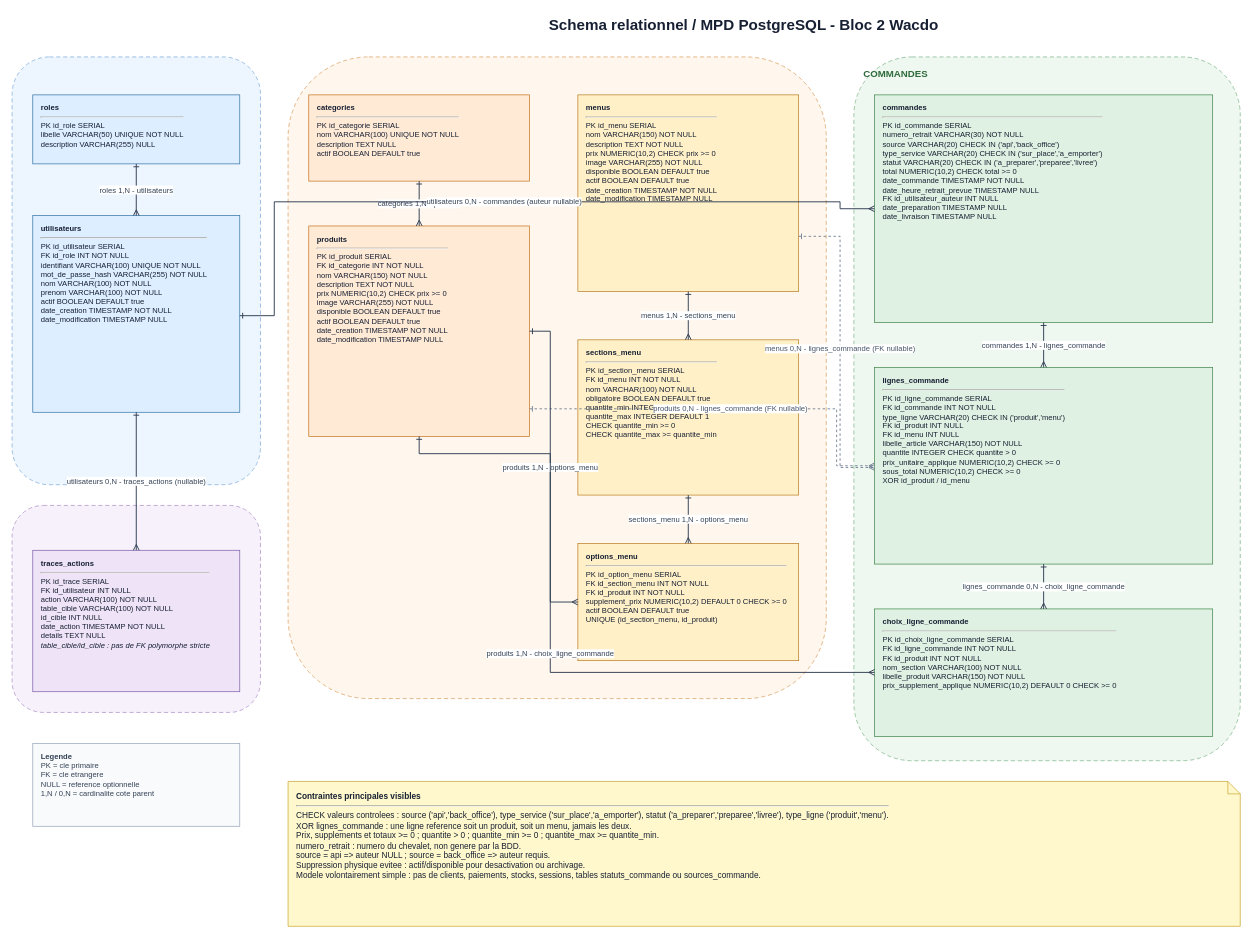
This 1252x938 diagram has some shape labels left out. The box of each missing label's shape, as (x1, y1, x2, y2) in pixels:
ACCES: (11, 56, 260, 485)
AUDIT: (11, 505, 260, 712)
CATALOGUE: (287, 56, 826, 699)
